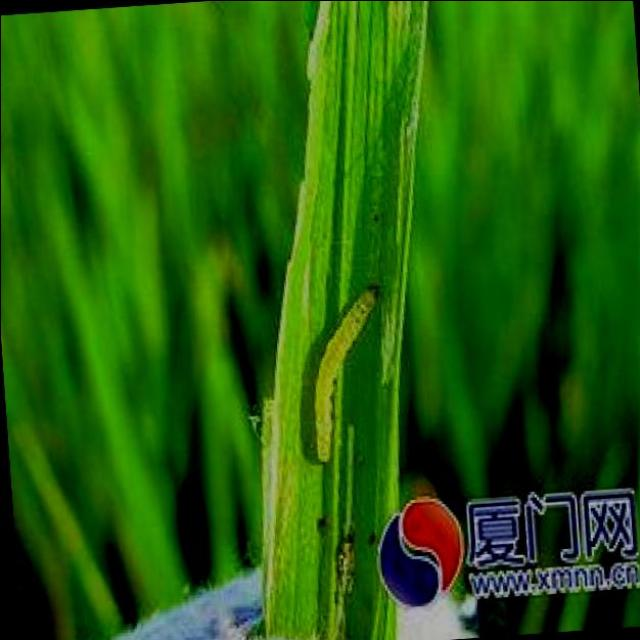leaf folder: (312, 288, 375, 461)
